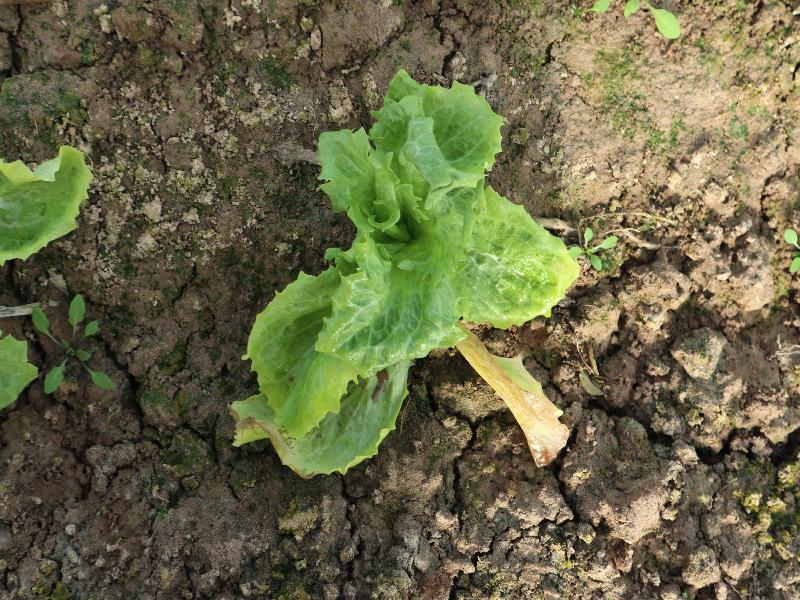lettuce: (244, 66, 581, 479)
